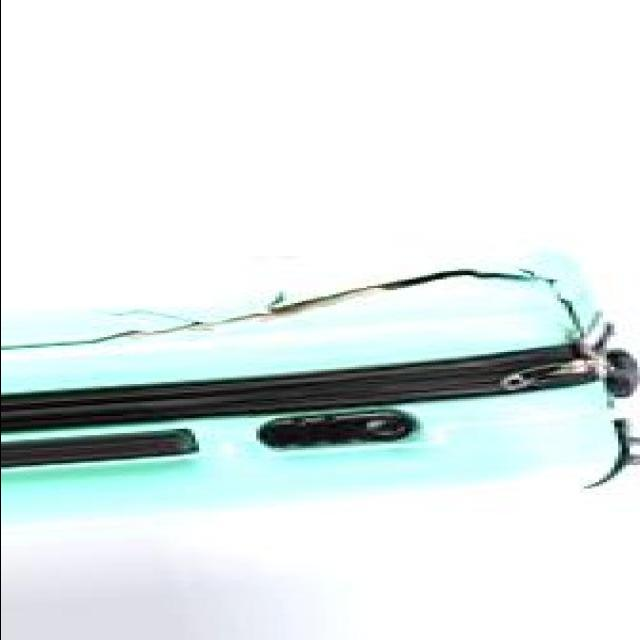Damage-bag: (1, 269, 582, 351)
